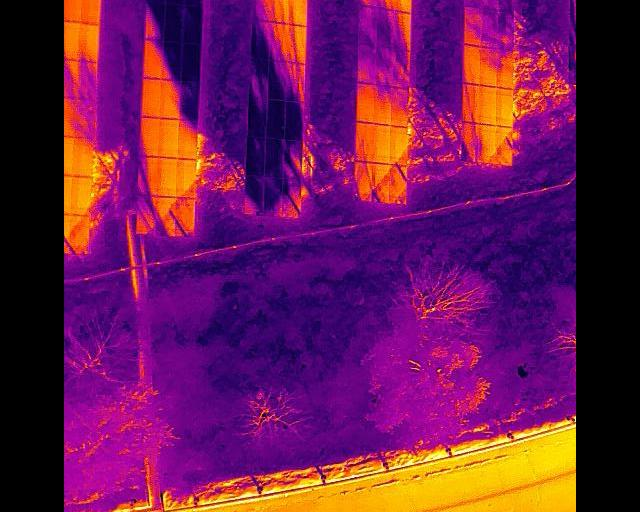No-Anomaly: (142, 76, 161, 117), (159, 117, 178, 157), (80, 23, 99, 61), (74, 138, 93, 176), (73, 175, 91, 215), (159, 156, 177, 196), (356, 83, 374, 123), (462, 45, 480, 84), (374, 123, 391, 163), (64, 22, 81, 60), (480, 85, 496, 125), (497, 88, 513, 125), (82, 0, 100, 23), (65, 0, 81, 22), (396, 0, 411, 10)
Shadowing: (137, 155, 159, 195), (136, 195, 157, 235), (139, 115, 159, 155), (268, 61, 288, 100), (248, 99, 268, 138), (143, 39, 162, 79), (69, 215, 89, 253), (355, 121, 374, 161), (249, 61, 269, 99), (360, 4, 378, 46), (175, 197, 194, 236), (160, 78, 179, 117), (264, 177, 283, 216), (286, 63, 305, 102), (282, 178, 301, 217), (283, 139, 302, 178), (391, 87, 410, 126), (180, 43, 200, 80), (178, 117, 196, 158), (462, 121, 480, 162), (164, 4, 183, 42), (77, 100, 96, 138), (478, 48, 497, 86), (245, 176, 264, 214), (251, 23, 270, 61), (163, 40, 181, 80), (177, 157, 195, 197), (157, 196, 175, 236), (267, 99, 285, 139), (183, 6, 202, 43), (270, 23, 289, 60), (79, 61, 97, 100), (391, 48, 409, 87), (265, 138, 283, 177), (378, 8, 396, 47), (358, 44, 376, 83), (353, 161, 371, 200), (180, 79, 198, 117), (464, 6, 482, 44), (247, 138, 265, 176), (374, 83, 391, 123), (496, 50, 514, 87), (285, 102, 303, 139), (463, 85, 480, 124), (372, 163, 389, 202), (390, 165, 407, 203), (289, 25, 306, 63), (376, 46, 393, 84), (482, 8, 498, 48), (391, 125, 407, 165), (480, 123, 496, 162), (395, 10, 411, 49), (147, 4, 164, 40), (500, 11, 515, 50), (64, 60, 79, 98), (496, 126, 511, 164), (289, 0, 307, 26), (253, 0, 272, 23), (273, 0, 289, 23), (499, 0, 515, 11), (482, 0, 498, 9), (379, 0, 395, 8)
